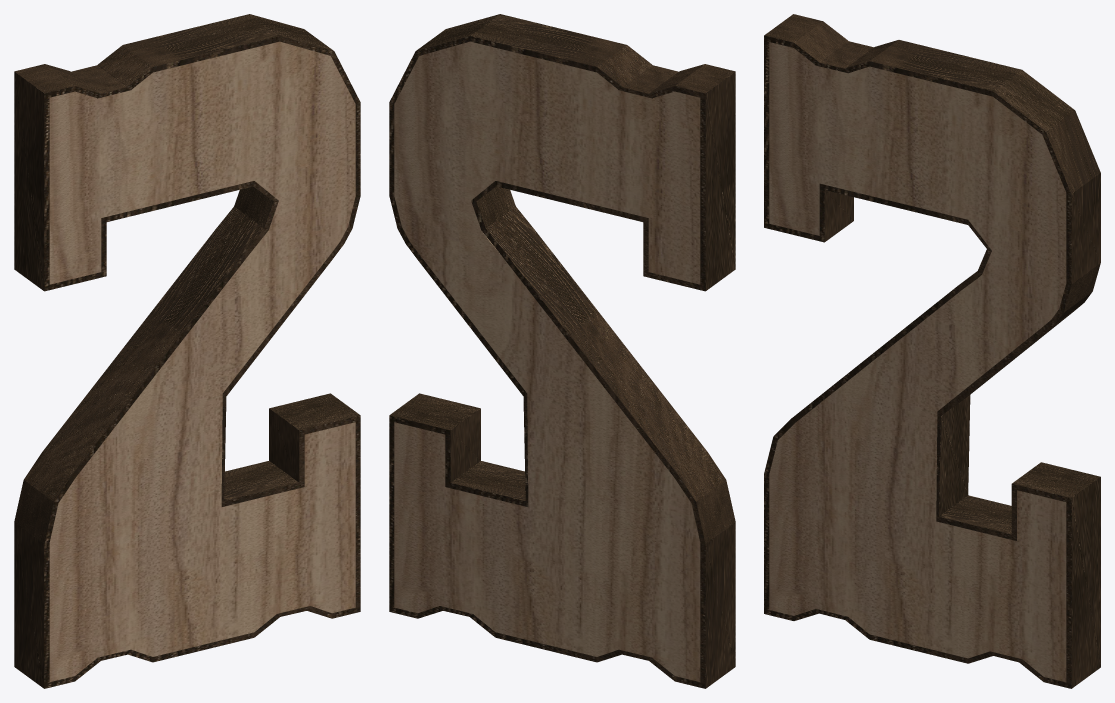
The picture shows the model from 3 angles, left to right: view 1: azimuth 30°, elevation 25°; view 2: azimuth 150°, elevation 25°; view 3: azimuth 330°, elevation 25°; orthographic projection. The views are drawn at different scales.
Visible parts, largest first — view 1: 2, 2_outline; view 2: 2, 2_outline; view 3: 2, 2_outline.
Part boxes in pixels (x1,y1,x2,y2): 2: (49,41,355,681); 2_outline: (14,14,360,688); 2: (394,41,700,681); 2_outline: (389,14,735,688); 2: (769,42,1066,682); 2_outline: (764,14,1100,688).
Size of the model in its own units: 60.5 by 109 by 10.
2 materials, 2 textured.
